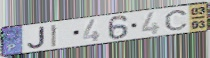4: (140, 11, 161, 35), (82, 18, 102, 43)
6: (107, 14, 130, 41)
C: (163, 9, 189, 31)
I: (51, 23, 59, 48)
J: (26, 26, 47, 50)
